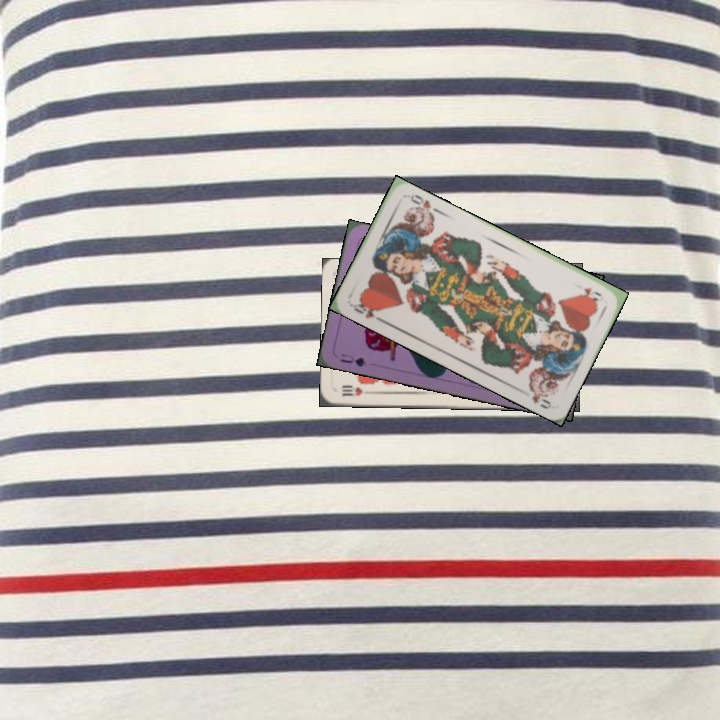GU: (336, 349, 369, 370)
H10: (338, 382, 365, 399)
HO: (347, 296, 385, 324), (580, 283, 604, 303)
